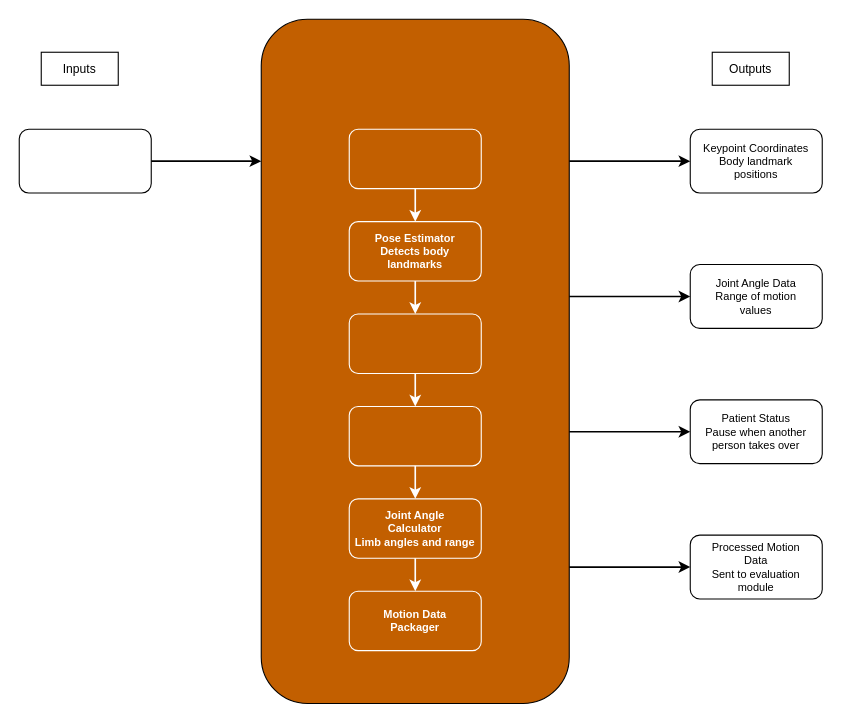
This 842x723 diagram has some shape labels left out. Each missing label, with the box of its shape:
External Webcam Raw video frames, real-time stream: (18, 128, 151, 193)
Frame Preprocessor Resizes a copy of the frame: (348, 128, 481, 189)
Landmark Smoother Steadies landmarks, bridges short gaps: (348, 405, 481, 466)
Motion Tracking Module OpenCV / MediaPipe Pose, Python: (260, 18, 569, 703)
Patient Lock Keeps the first body; pauses if replaced: (348, 313, 481, 373)
